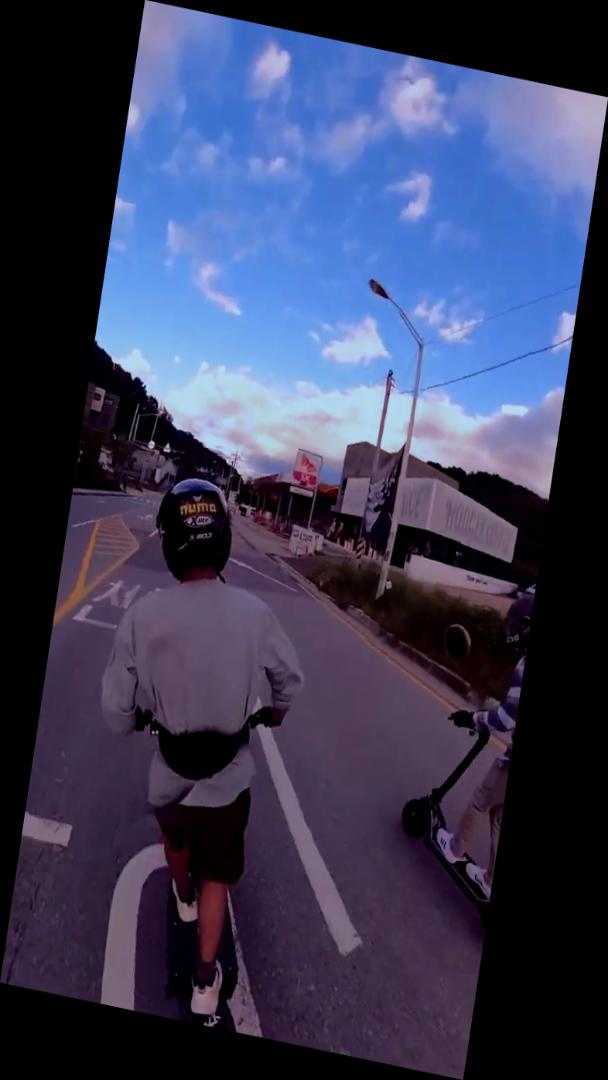helmet: (55, 463, 333, 1036), (383, 572, 535, 938)
